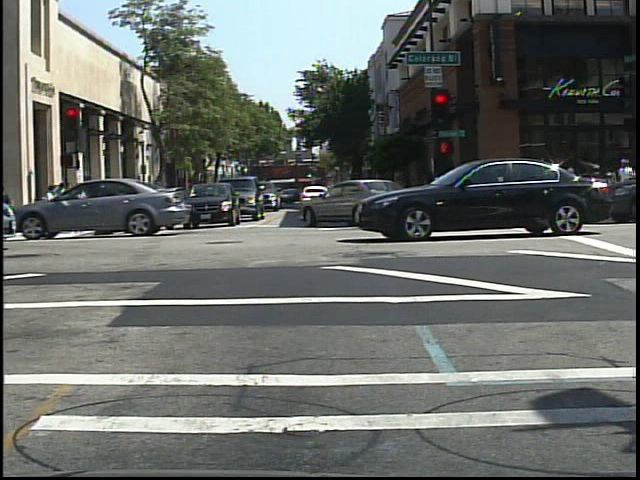person: (158, 180, 177, 218), (620, 151, 635, 187)
